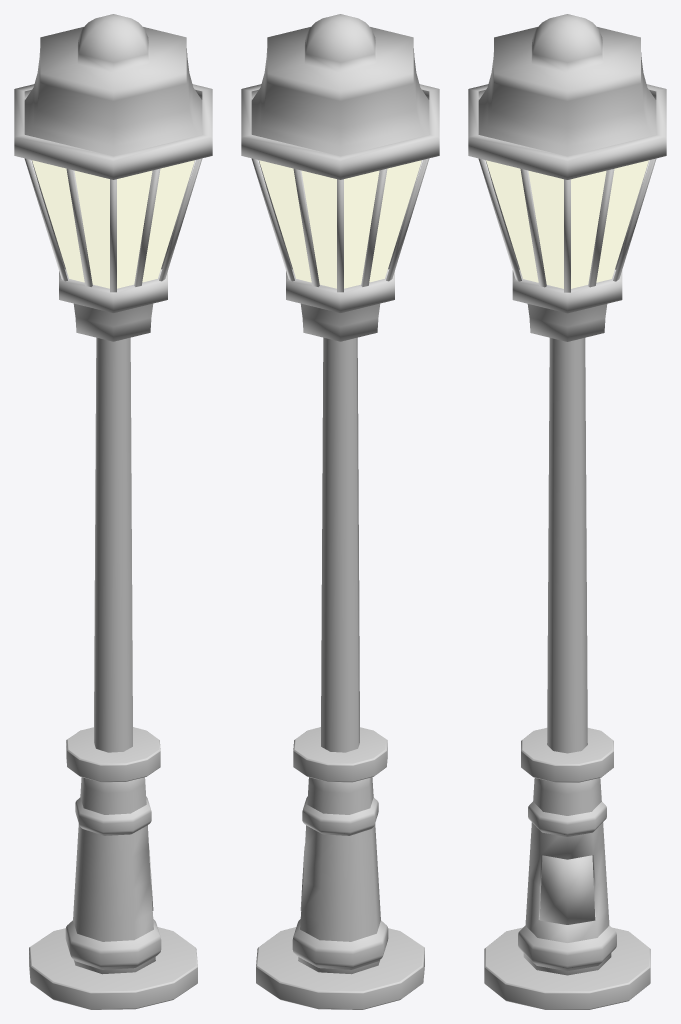
File: lampPost3.fbx
The picture shows the model from 3 angles, left to right: view 1: azimuth 30°, elevation 25°; view 2: azimuth 150°, elevation 25°; view 3: azimuth 270°, elevation 25°; orthographic projection.
Parts seen in each view (by area): view 1: Post.003; view 2: Post.003; view 3: Post.003.
Part boxes in pixels (x1=…): Post.003: x1=14, y1=14, x2=212, y2=1009; Post.003: x1=241, y1=14, x2=439, y2=1009; Post.003: x1=468, y1=14, x2=666, y2=1009.
Bounding box in the file's own units: 83.66 × 386 × 72.45.
